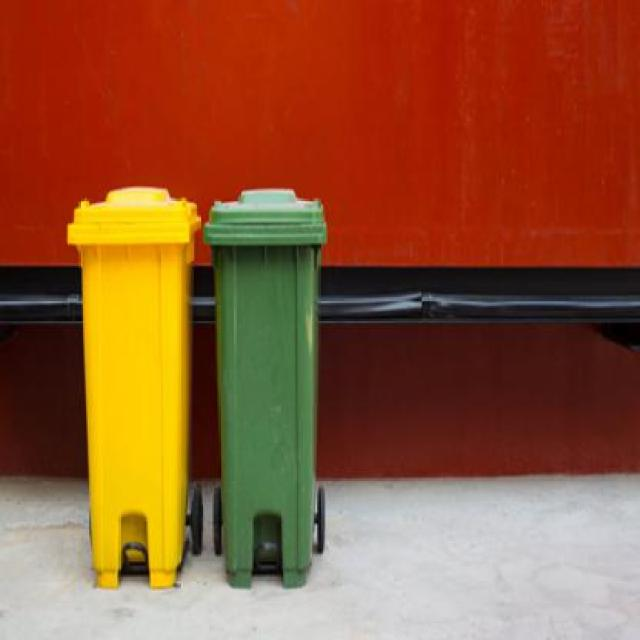garbage container: (62, 170, 206, 604), (202, 180, 340, 612)
